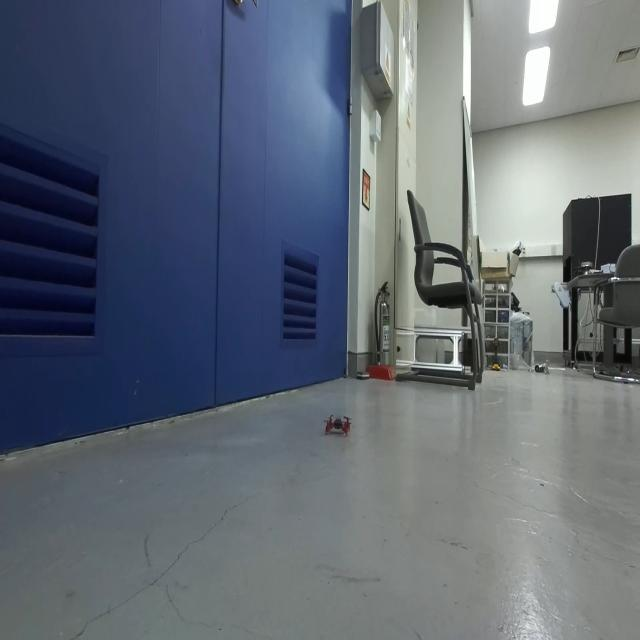crazyflie: (323, 406, 356, 441)
